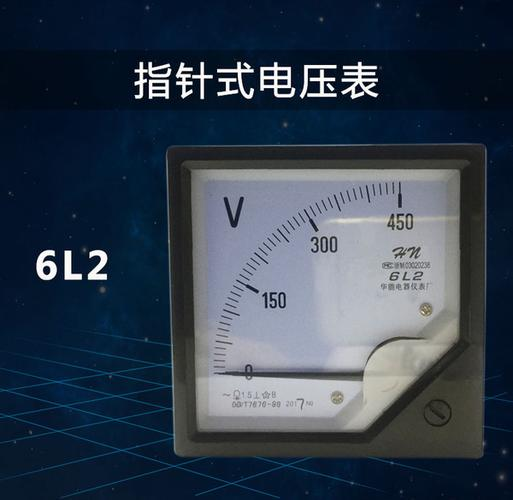pointer: (186, 163, 462, 439)
